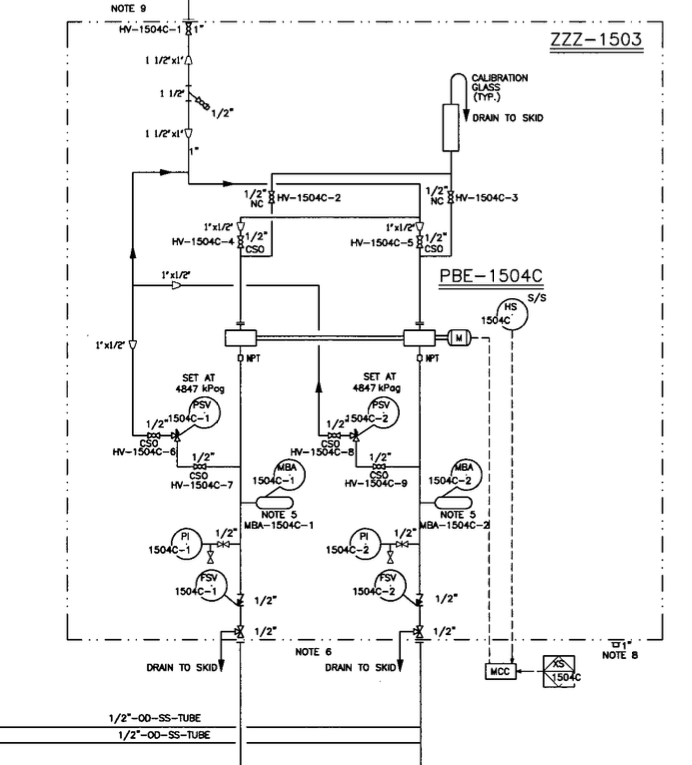Instrument-offset: (342, 392, 405, 434), (425, 451, 486, 494), (250, 450, 308, 495), (348, 567, 412, 605), (172, 566, 231, 607), (325, 522, 383, 563), (146, 523, 205, 563), (165, 393, 224, 432), (478, 292, 531, 334)
Instrument-square-offset: (536, 648, 585, 691)
